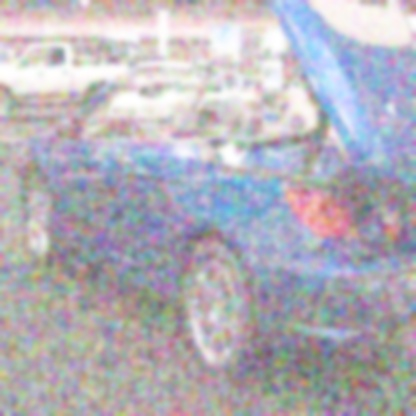Vehicle: (15, 1, 415, 381)
